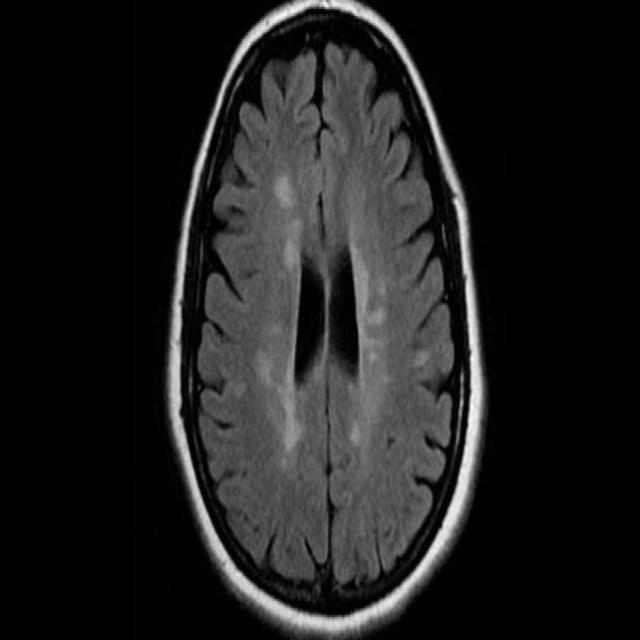notumor: (165, 9, 488, 617)
